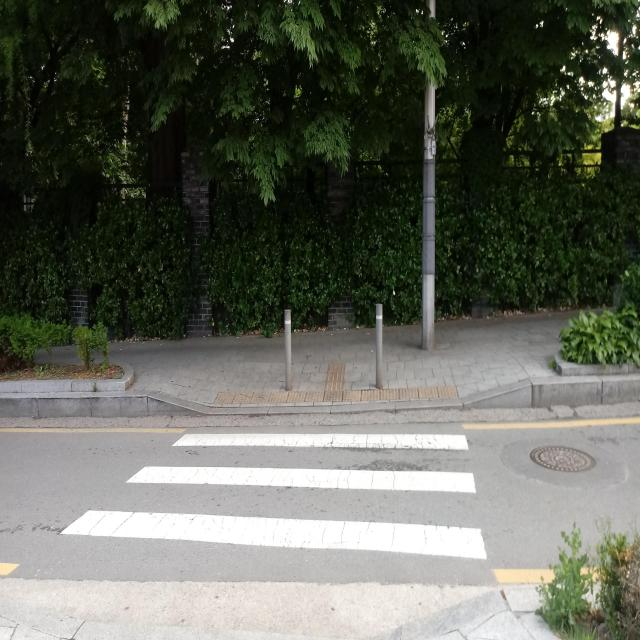횡단보도: (58, 430, 490, 563)
